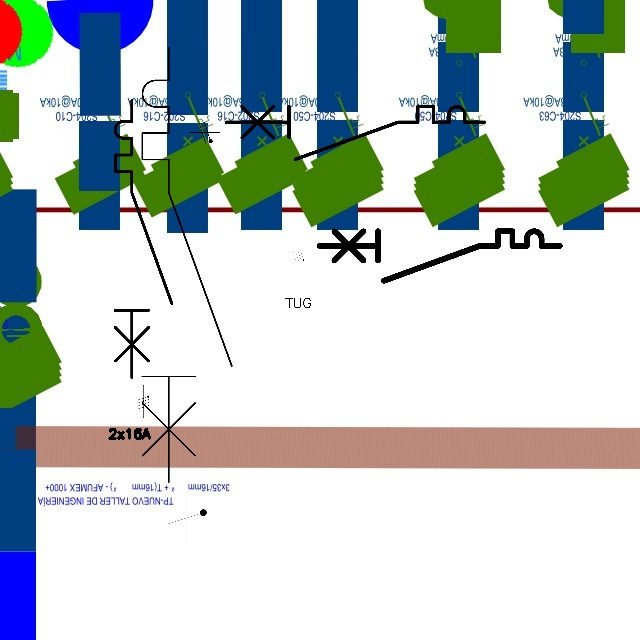interruptor_termomagnetico: (131, 36, 243, 493), (108, 93, 179, 384), (219, 100, 490, 166), (313, 225, 566, 287)
